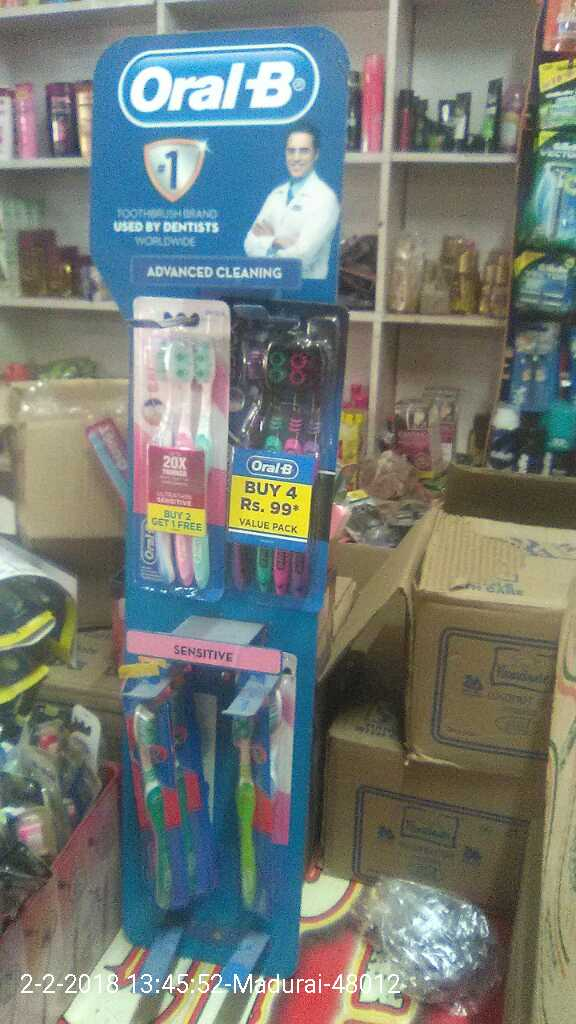oralb: (126, 296, 231, 592), (228, 310, 329, 604), (125, 671, 192, 916), (228, 688, 282, 923)
